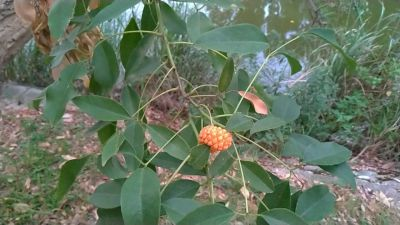eggs: (197, 120, 232, 151)
